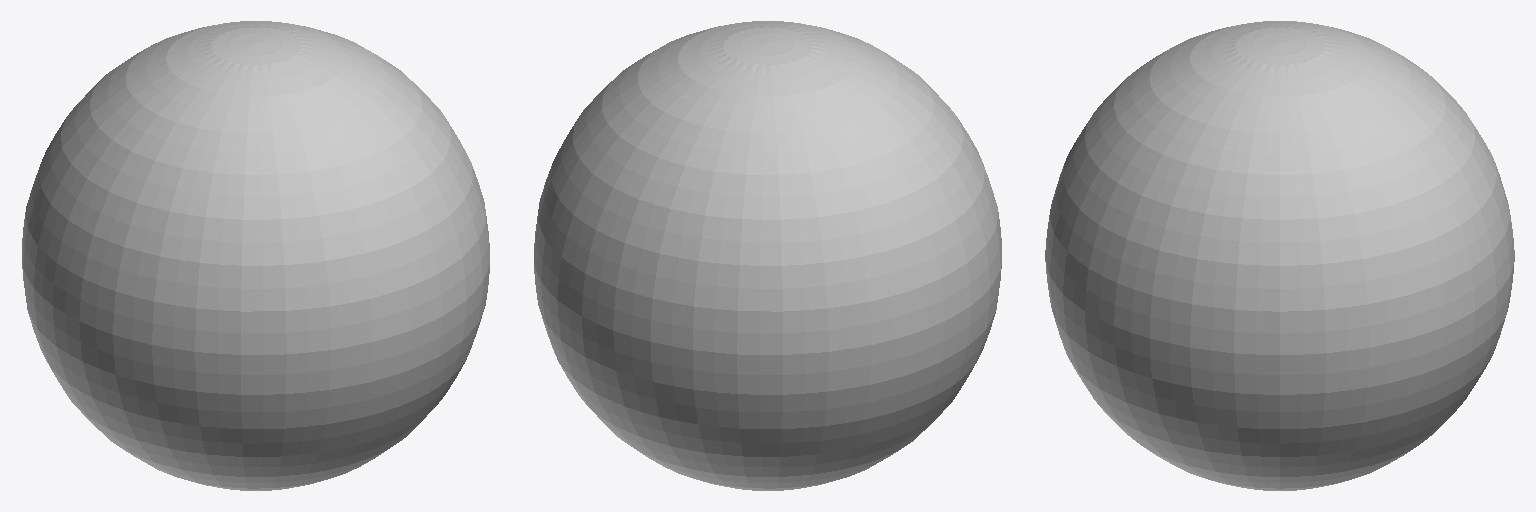
The model's file is celestial.obj.
3 renders of one model, left to right at view 1: azimuth 30°, elevation 25°; view 2: azimuth 150°, elevation 25°; view 3: azimuth 270°, elevation 25°, orthographic.
Visible parts, largest first — view 1: Sphere_Sphere.002; view 2: Sphere_Sphere.002; view 3: Sphere_Sphere.002.
Part boxes in pixels (x1,y1,x2,y2): Sphere_Sphere.002: (22,21,489,490); Sphere_Sphere.002: (534,21,1001,490); Sphere_Sphere.002: (1045,21,1514,490).
Bounding box in the file's own units: 1.99 × 1.99 × 1.99.